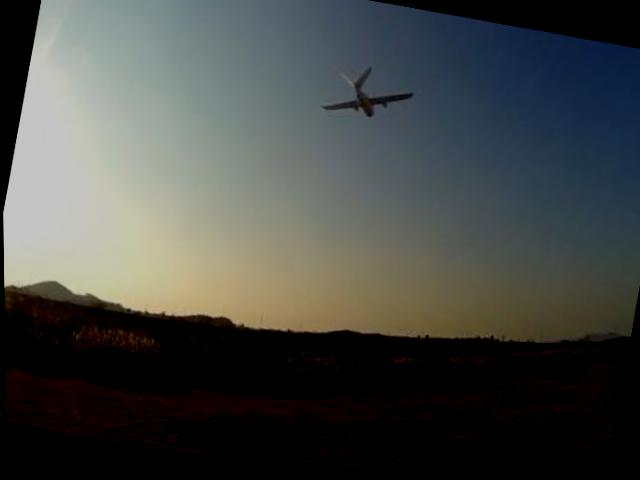uav: (312, 44, 427, 141)
